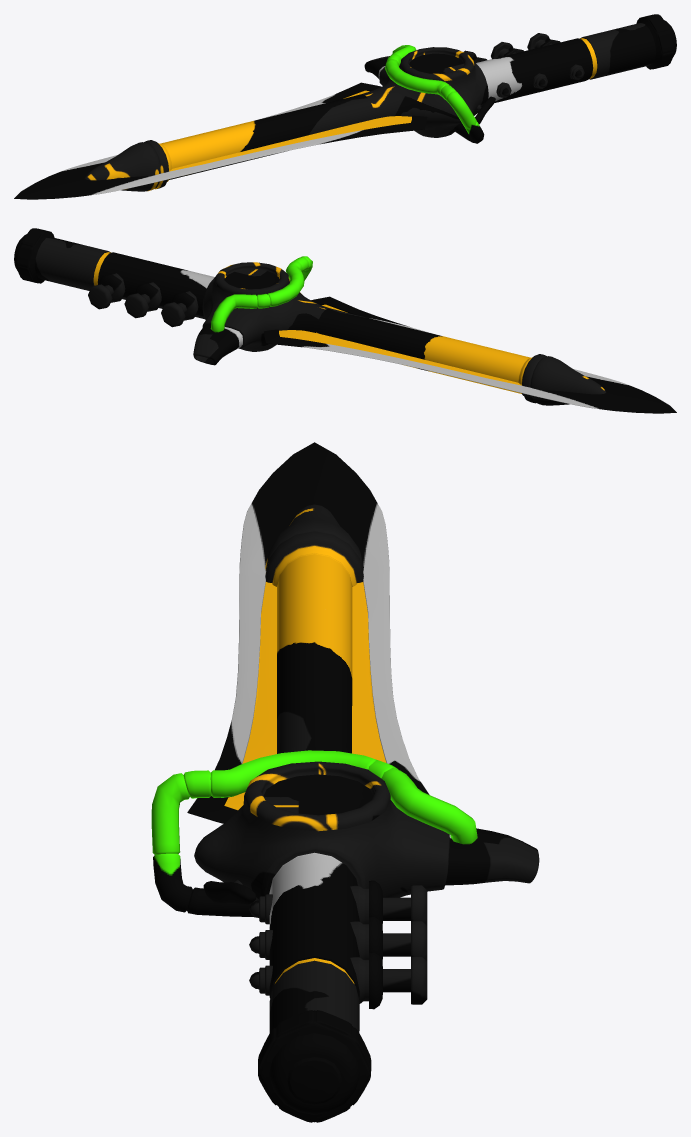
File: Dagger.obj
3 renders of one model, top to bottom at view 1: azimuth 30°, elevation 25°; view 2: azimuth 150°, elevation 25°; view 3: azimuth 270°, elevation 25°, orthographic. The views are drawn at different scales.
Visible parts, largest first — view 1: Dagger_Dagger_0; view 2: Dagger_Dagger_0; view 3: Dagger_Dagger_0.
Part boxes in pixels (<box>): Dagger_Dagger_0: <box>14,14,676,199</box>; Dagger_Dagger_0: <box>14,228,676,413</box>; Dagger_Dagger_0: <box>151,442,539,1122</box>.
Bounding box in the file's own units: 0.4699 × 0.05 × 0.1202.
